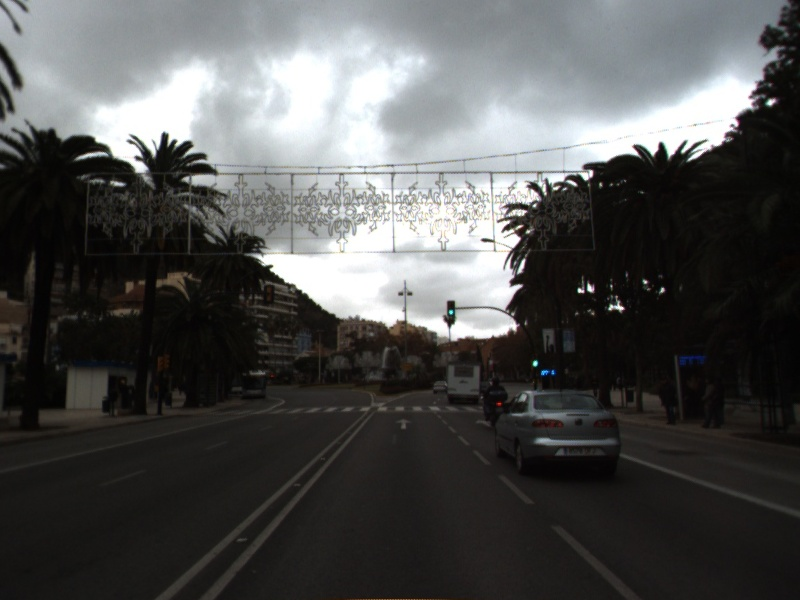STRAIGHT: (394, 416, 414, 432), (473, 417, 493, 428)
